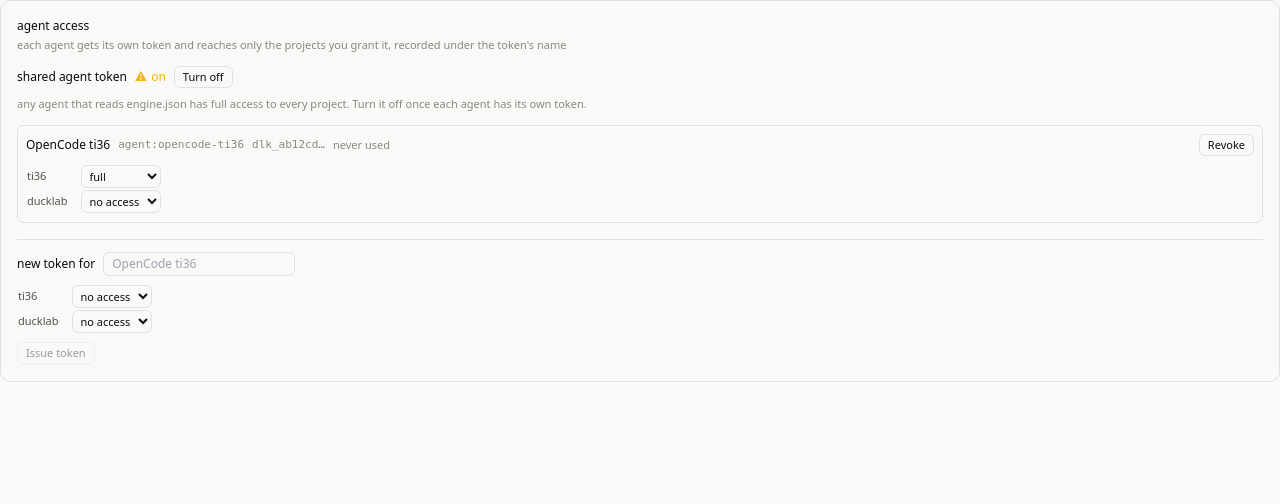
Test: agent access › issues a token and shows its secret once
Type "Claude Code" into the field with test id "agent-access-name" at (199, 264), box [103,252,295,276]
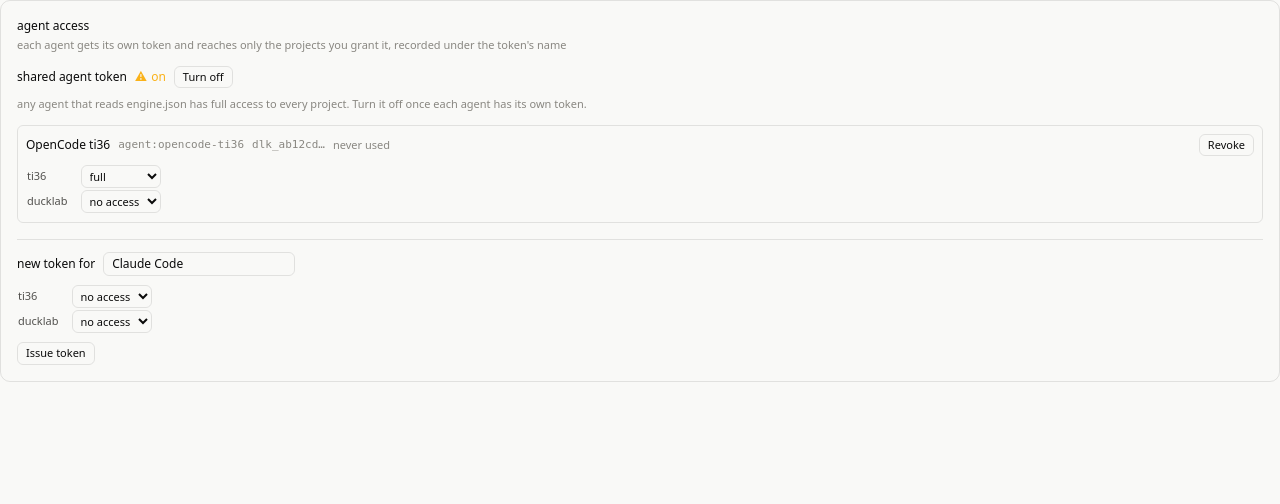
Select "full" in the dropdown named "access to ducklab" below "new token for" at (112, 322), box [72,310,152,333]
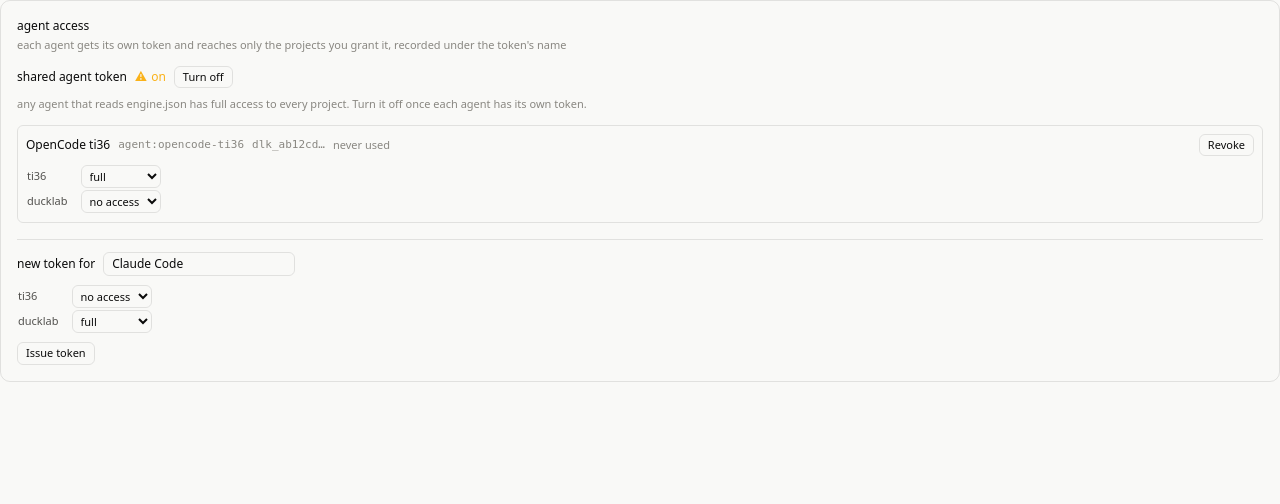
Click the button with test id "agent-access-create" at (56, 353), box [17,342,95,364]
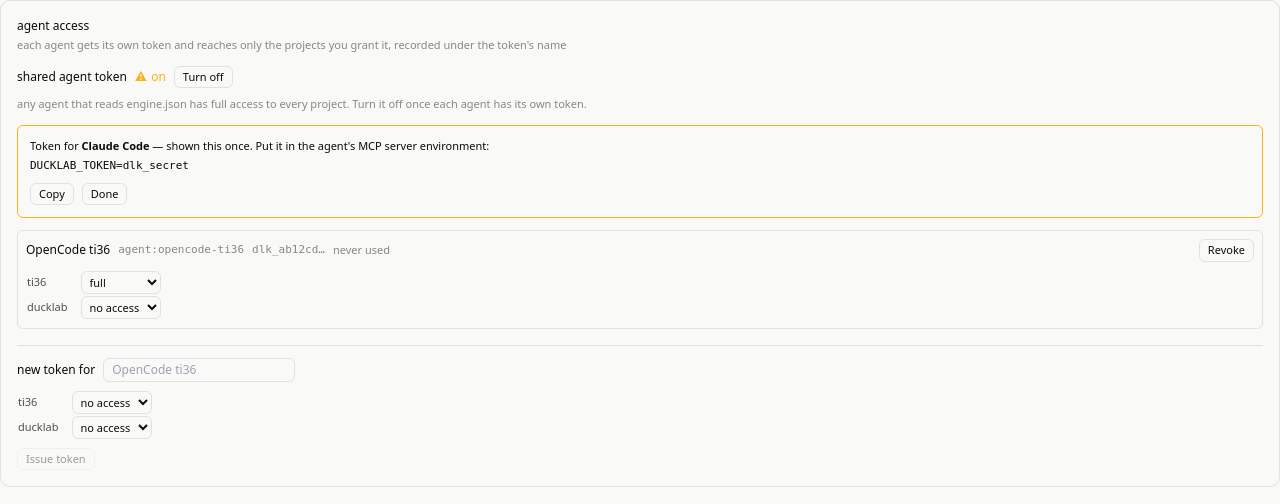
Check: the element with test id "agent-access-secret" shows "DUCKLAB_TOKEN=dlk_secret", box [17,124,1263,218]
Click the button with test id "agent-access-secret-done" at (105, 194), box [82,182,128,205]
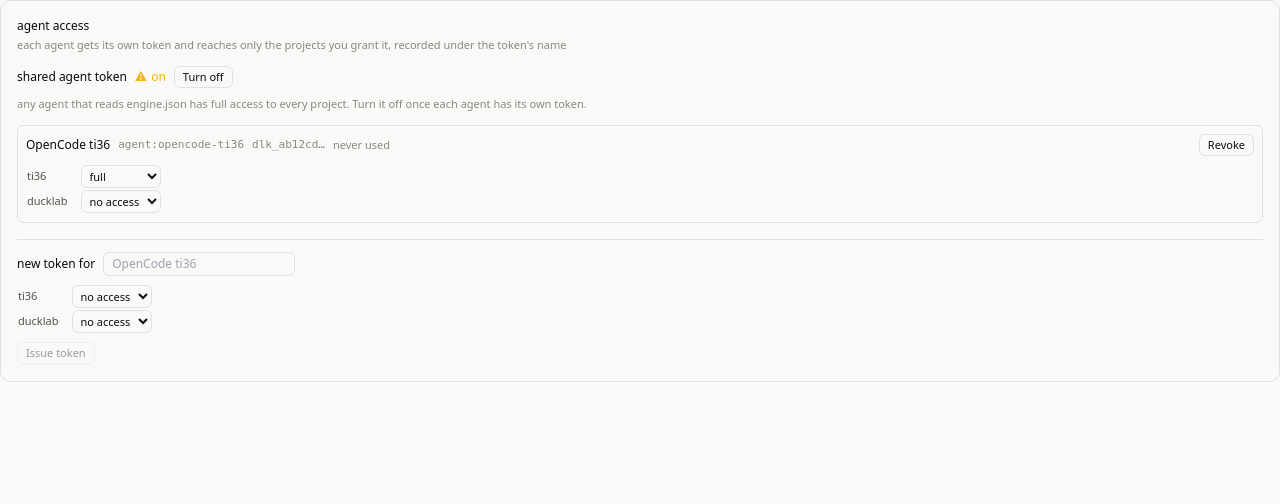
Check: the element with test id "agent-access-secret" is gone
